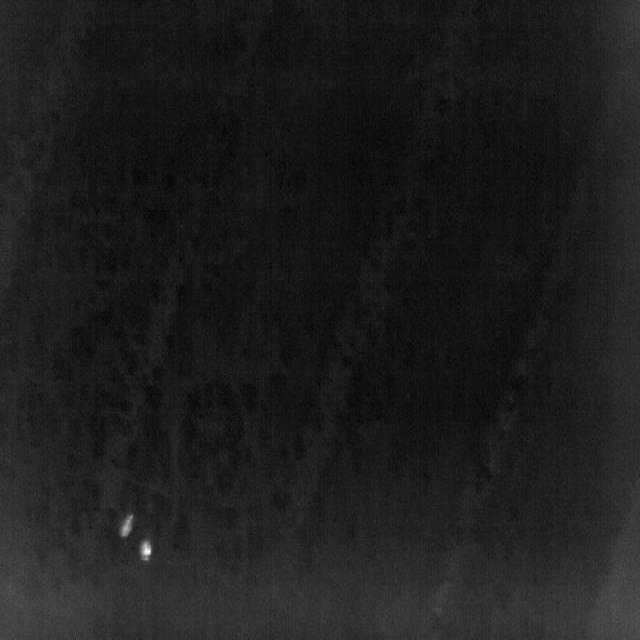deer: (118, 514, 133, 538), (140, 540, 152, 561)
